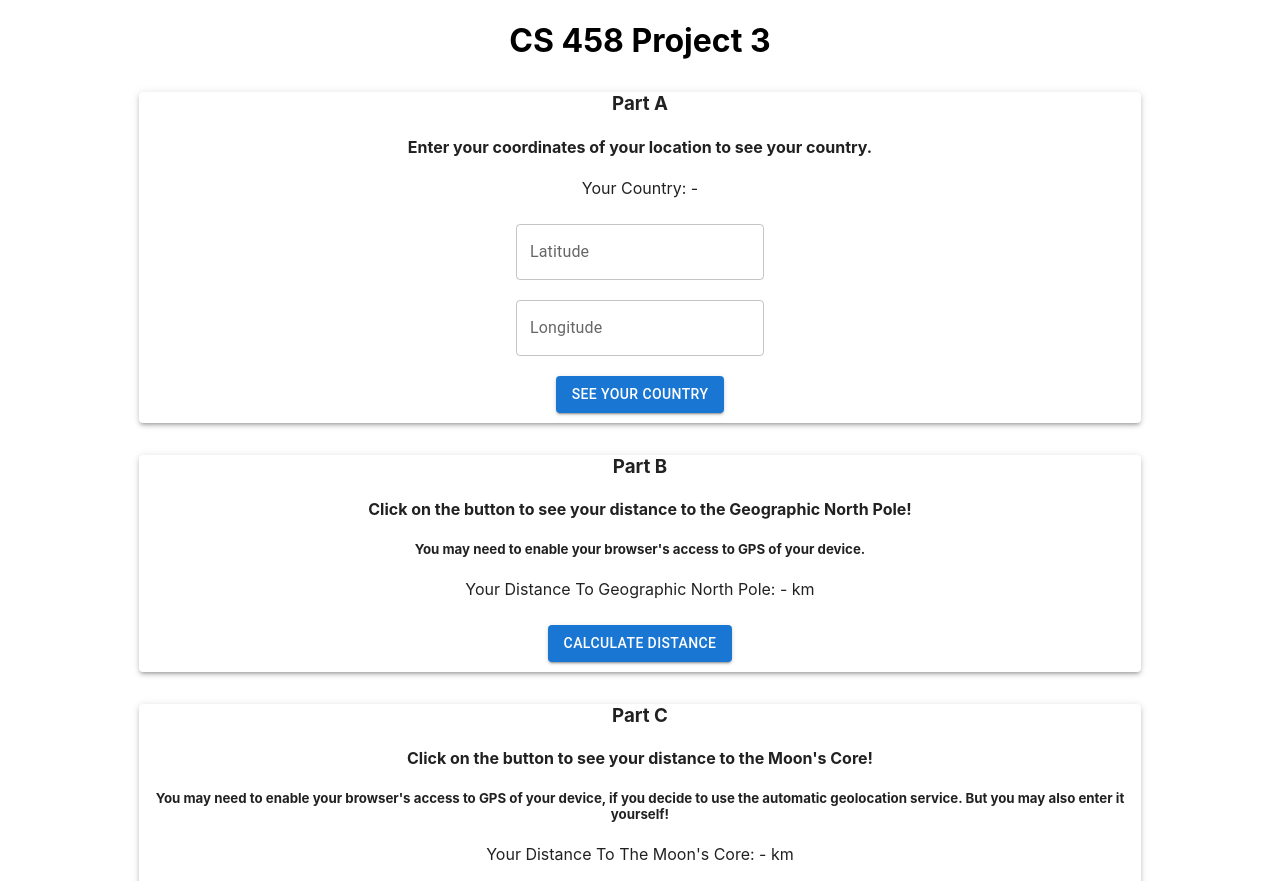
Test: Checking for the input to part A for both lat/long: › do not accept inputs including letter or symbols (both)
Type "12Ab&" into the field with test id "part-a-field-1" at (640, 252), box [516,224,764,280]
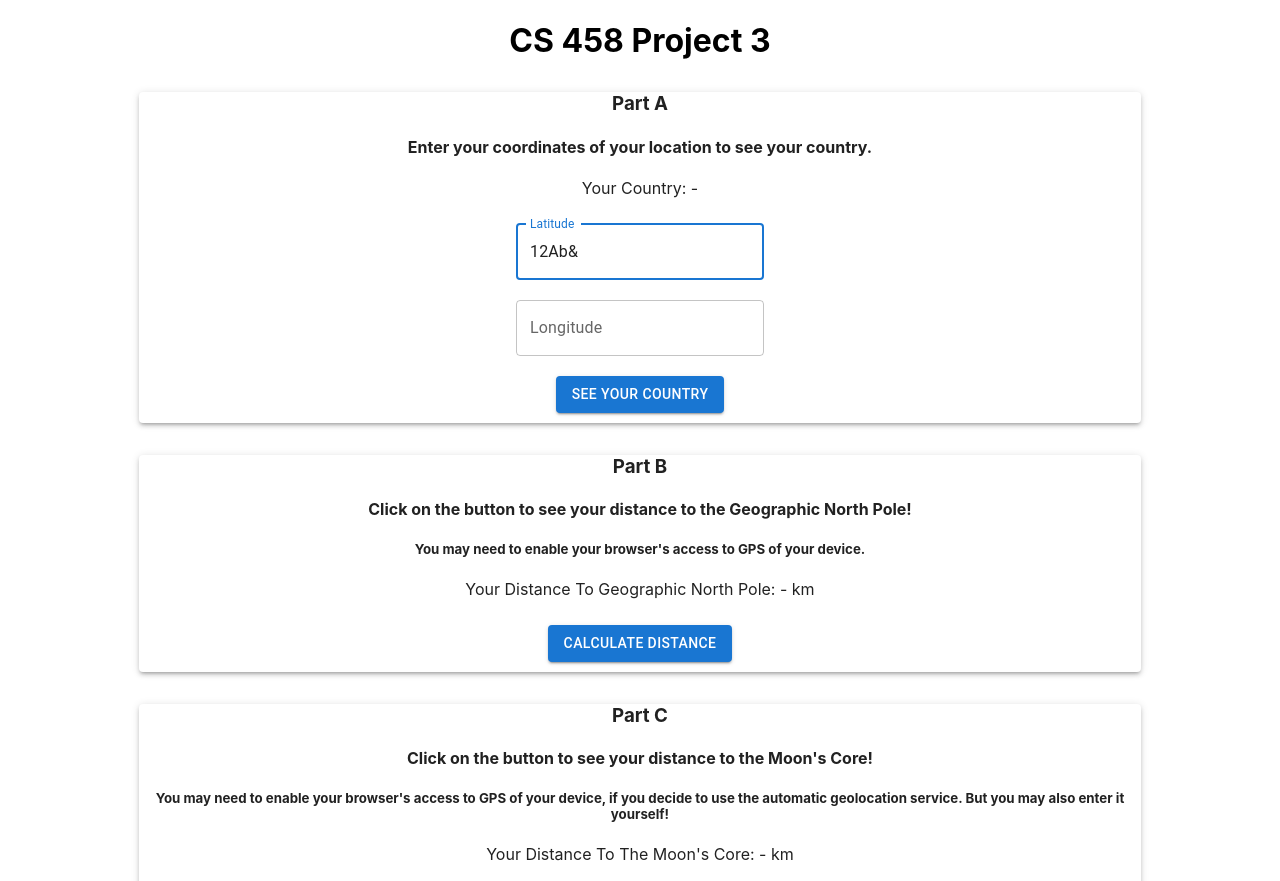
Type "12Ab&" into the field with test id "part-a-field-2" at (640, 328), box [516,300,764,356]
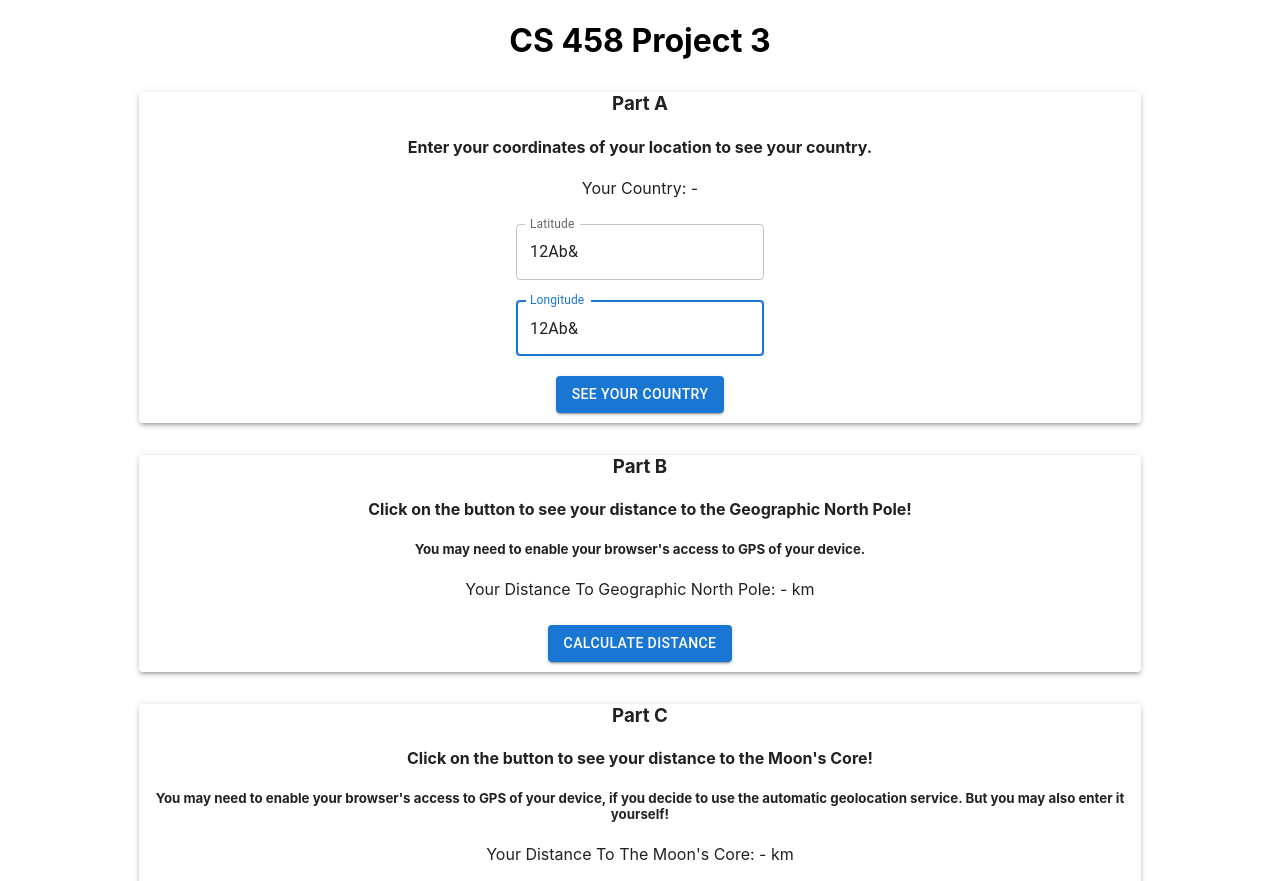
Click the button with test id "part-a-button" at (640, 394), box [556,376,724,412]
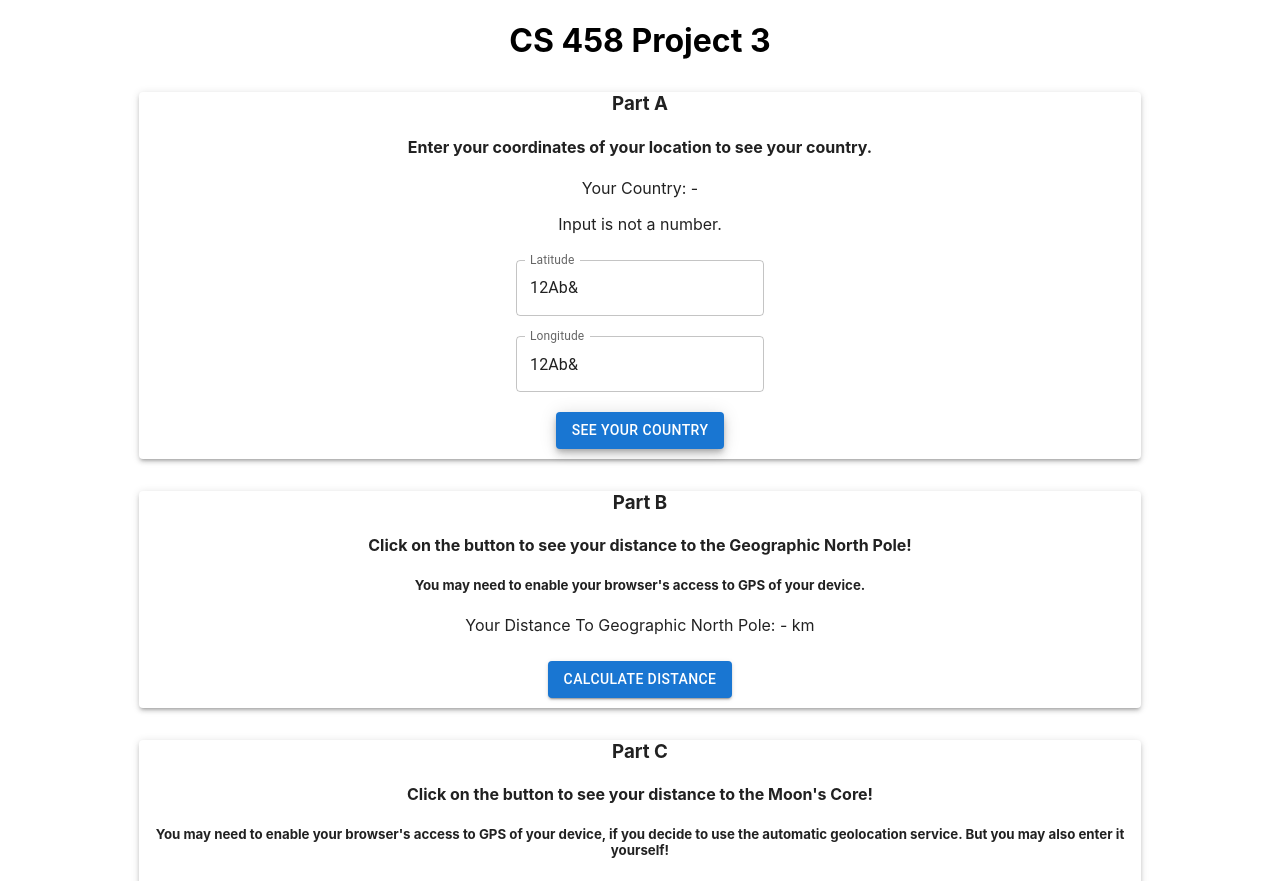
Check: the text with test id "part-a-paragraph" shows "-", box [691,178,698,198]
Check: the text with test id "part-a-error" reads "Input is not a number.", box [558,214,722,234]
